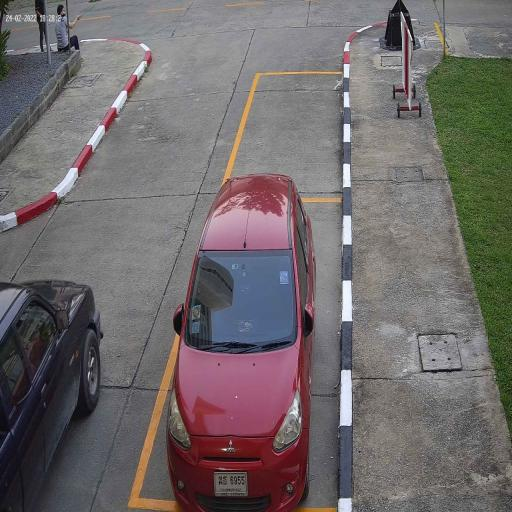car: (163, 170, 318, 512), (0, 276, 104, 512)
